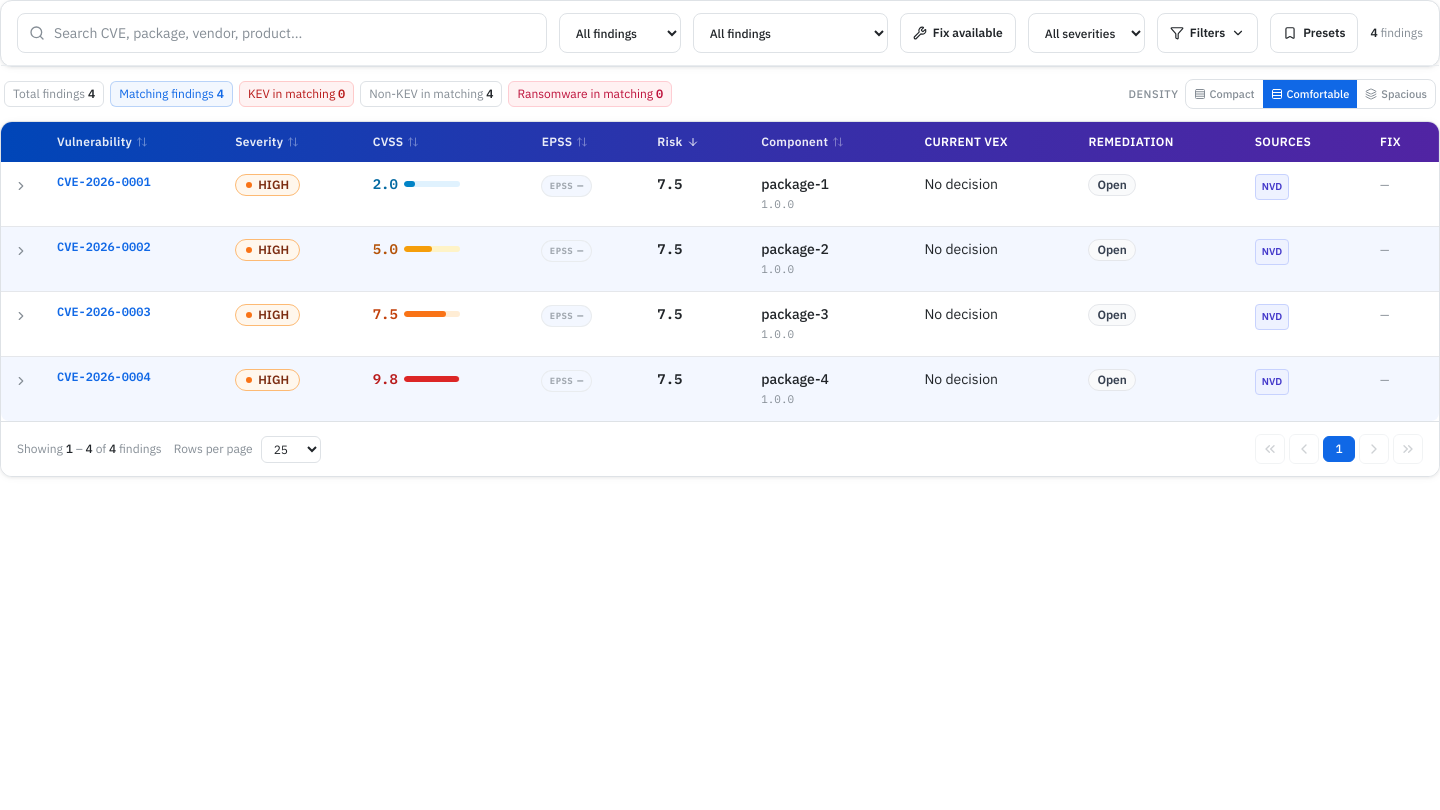
Scenario: FindingsTable CVSS score range slider (SBO-97) › keeps CVSS filtering and the numeric fields in sync when either thumb moves
The width and height of the screenshot is (1440, 810).
Click the button "Filters" at (1207, 33), box [1157,13,1258,53]
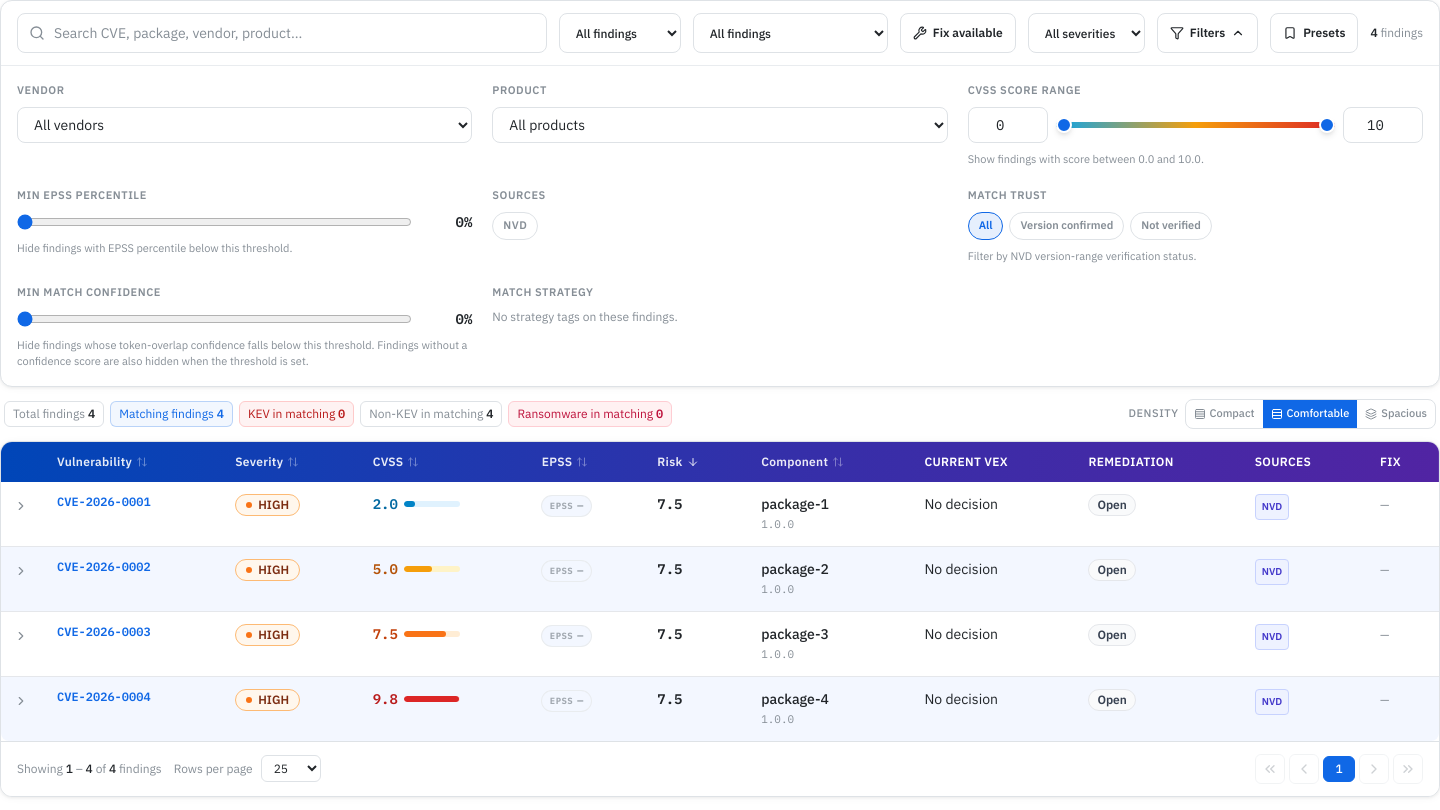
Set the slider named "CVSS minimum slider" to "5" at (1195, 124), box [1056,106,1335,142]
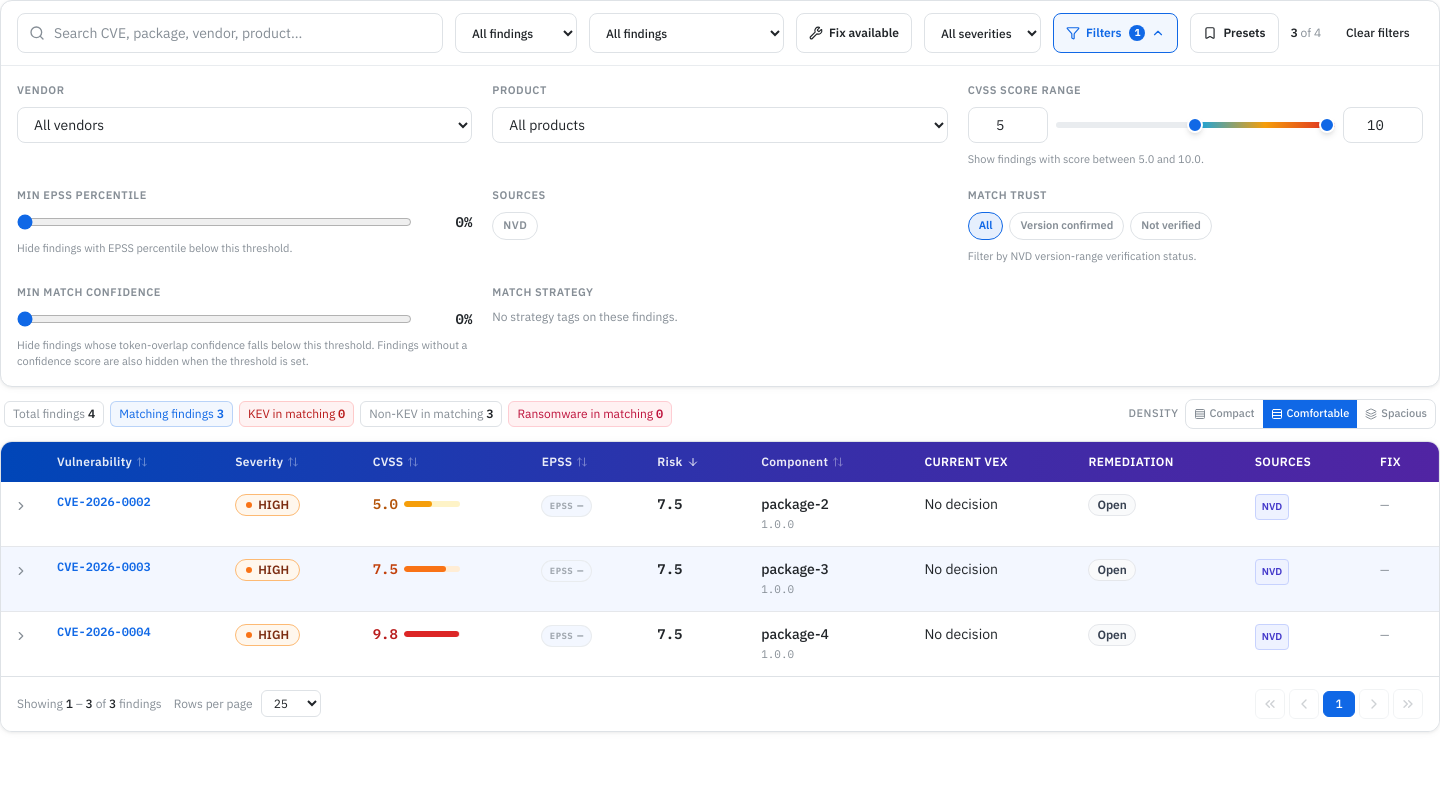
Check: the text "Matching findings 3" is shown, box [110,400,233,426]
Check: the number field named "CVSS minimum" holds "5", box [968,106,1048,142]
Set the slider named "CVSS maximum slider" to "9" at (1301, 124), box [1056,106,1335,142]
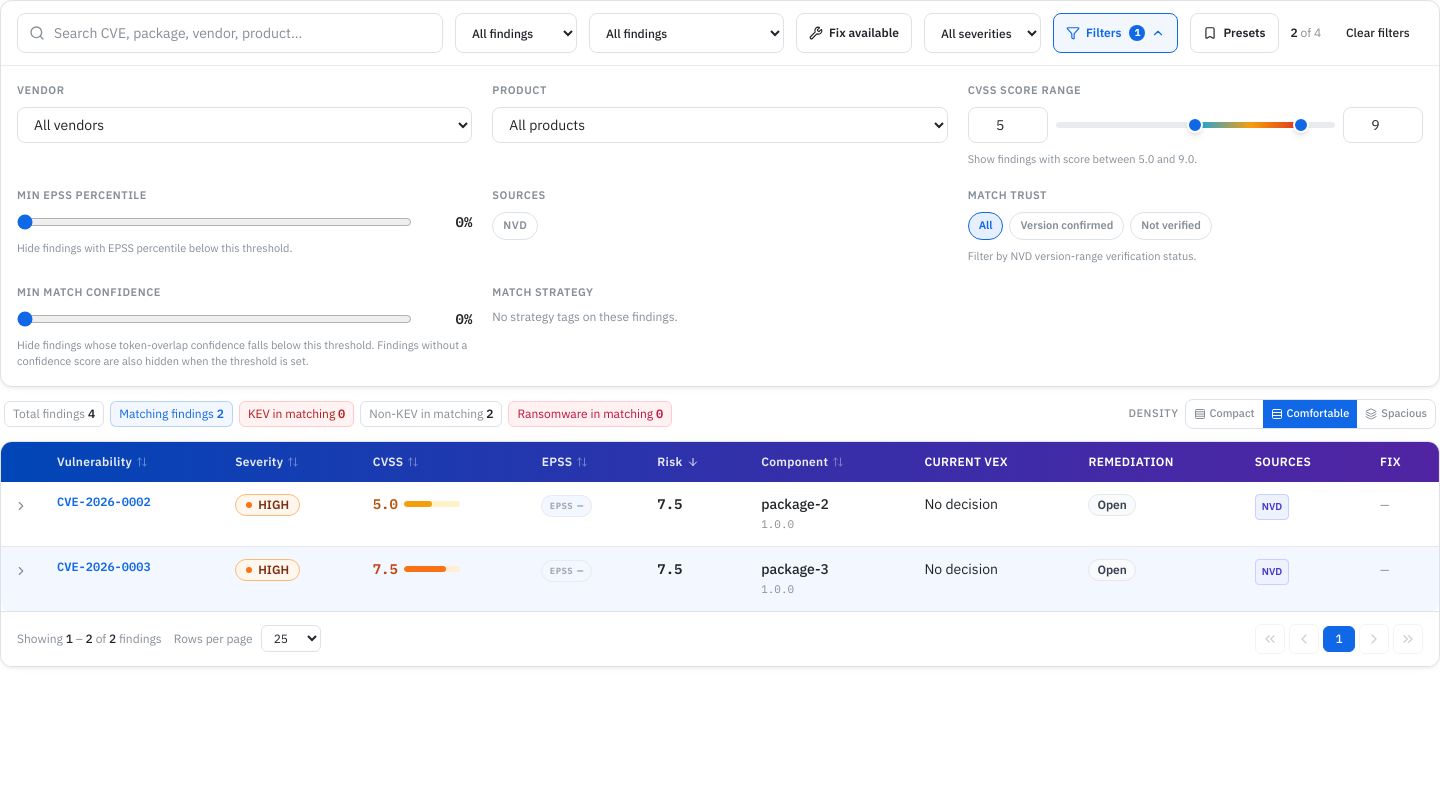
Check: the text "Matching findings 2" is shown, box [110,400,233,426]
Check: the number field named "CVSS maximum" holds "9", box [1343,106,1423,142]
Check: the text "Show findings with score between 5.0 and 9.0." is shown, box [968,152,1197,166]
Set the slider named "CVSS minimum slider" to "9.5" at (1314, 124), box [1056,106,1335,142]
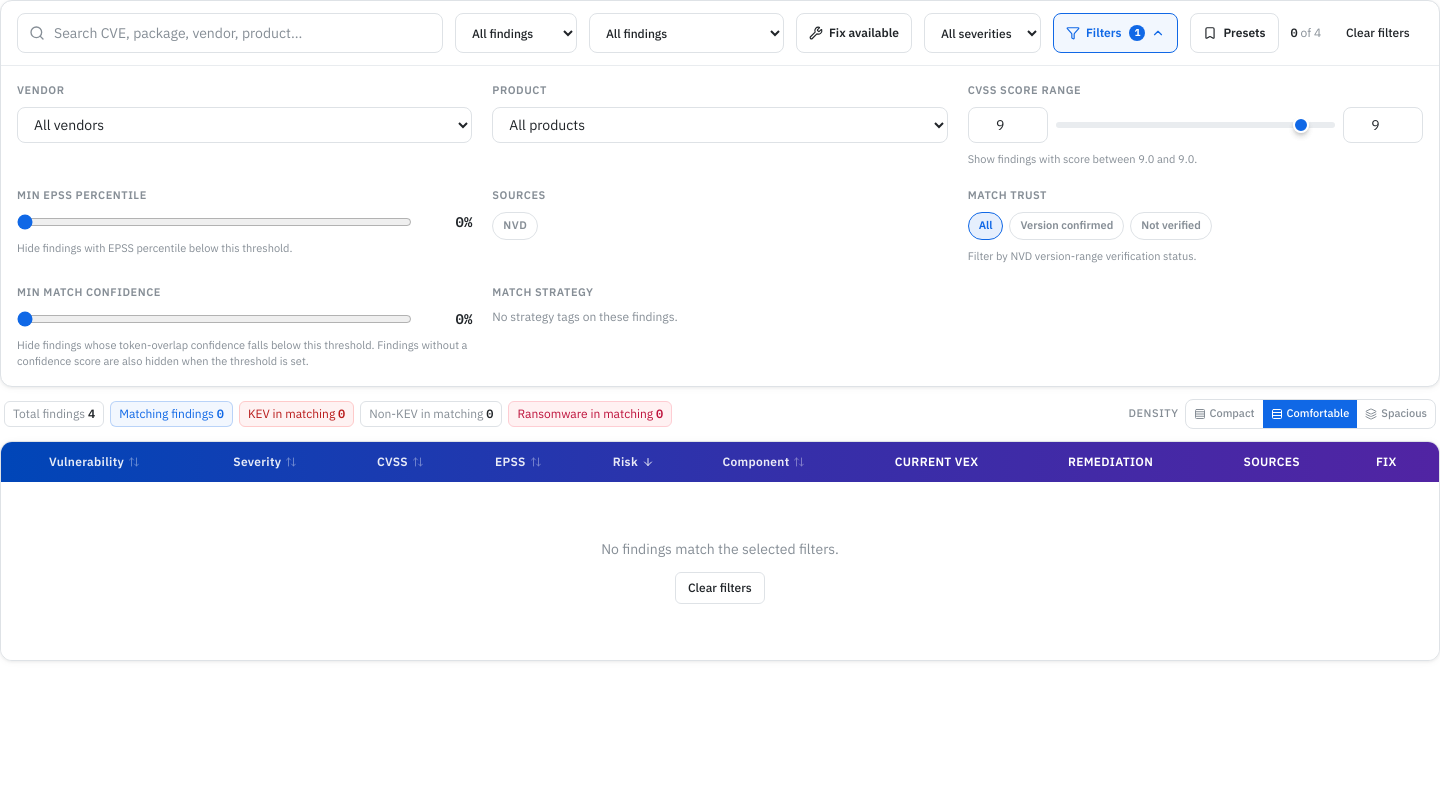
Check: the slider named "CVSS minimum slider" holds "9", box [1056,106,1335,142]
Check: the text "Matching findings 0" is shown, box [110,400,233,426]
